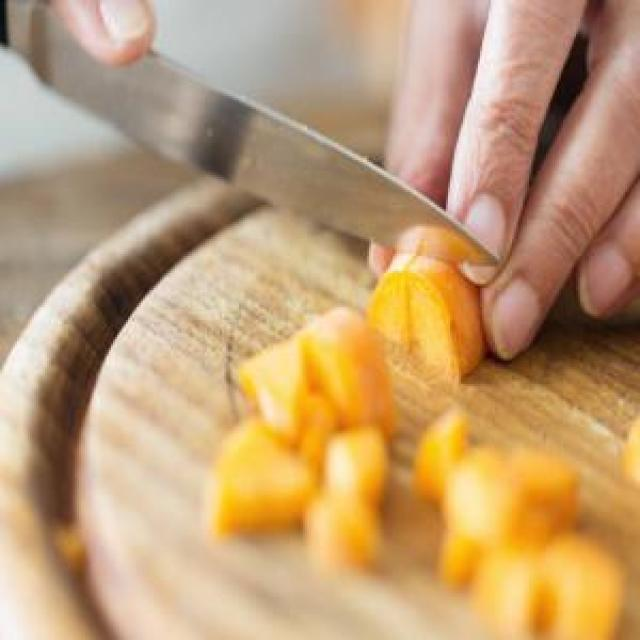knife: (0, 0, 503, 271)
